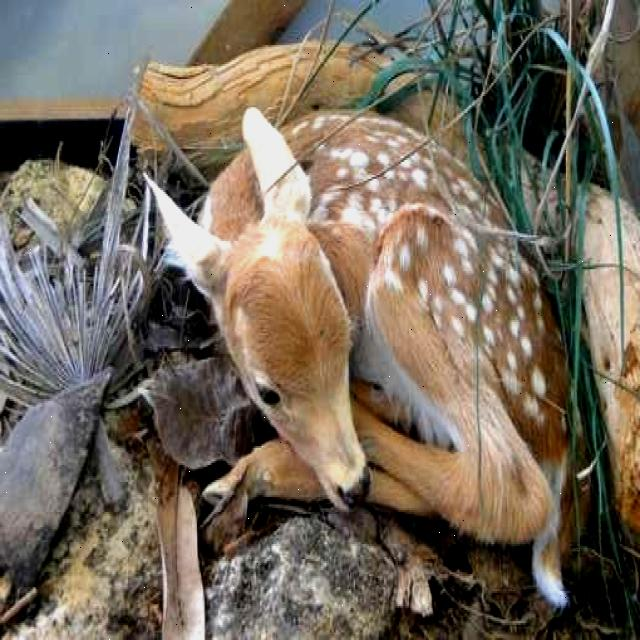deer: (141, 92, 392, 536)
